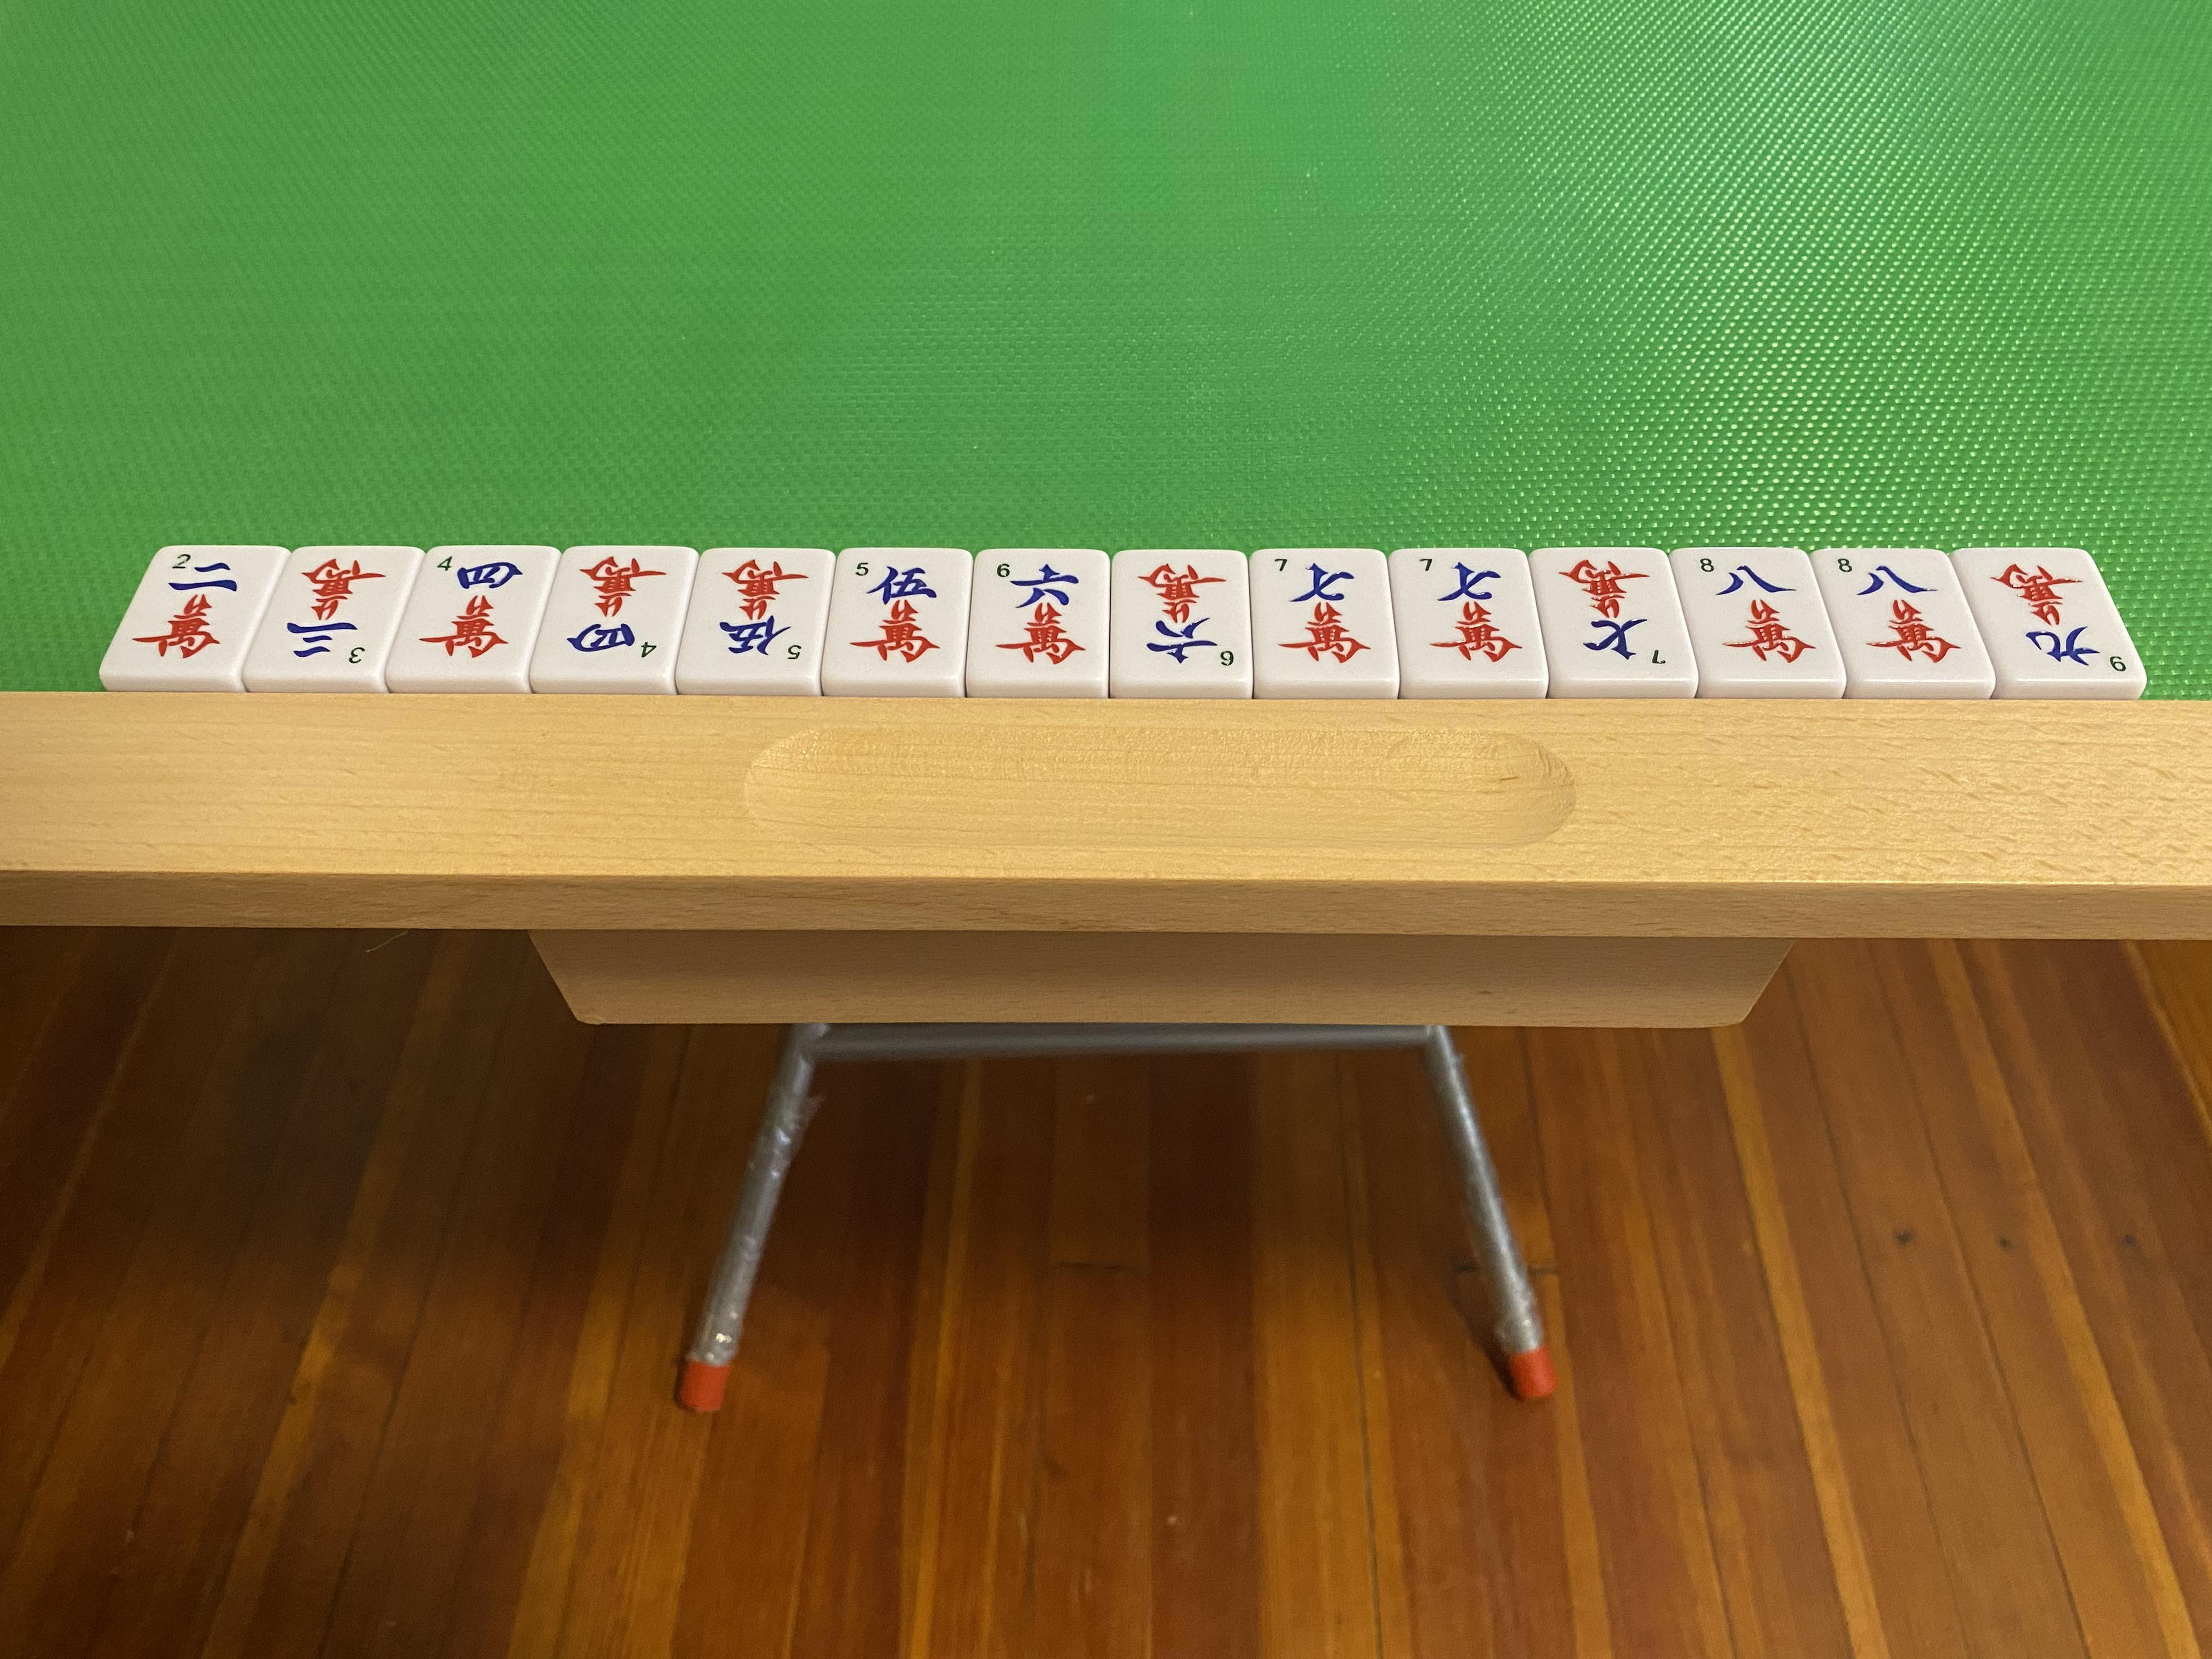character-eight: (1831, 547, 1970, 674), (1691, 551, 1818, 676)
character-five: (704, 551, 812, 676), (846, 552, 951, 680)
character-four: (557, 551, 676, 678), (416, 547, 523, 674)
character-nine: (1987, 559, 2128, 680)
character-seven: (1550, 554, 1674, 678), (1266, 551, 1378, 678), (1409, 551, 1519, 680)
character-six: (1122, 556, 1238, 678), (982, 551, 1087, 680)
character-three: (280, 547, 388, 669)
character-two: (136, 544, 246, 671)
